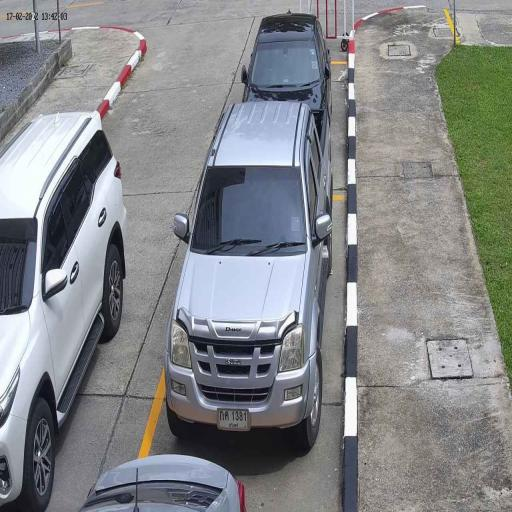car: (166, 100, 334, 448), (0, 109, 129, 512), (75, 452, 251, 512), (240, 11, 333, 109)
